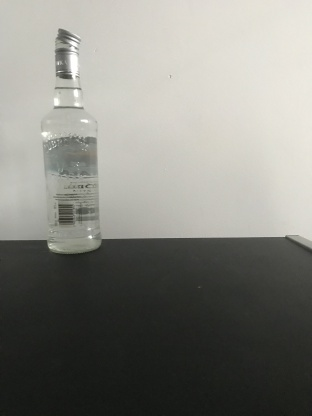nakretka: (52, 26, 82, 80)
